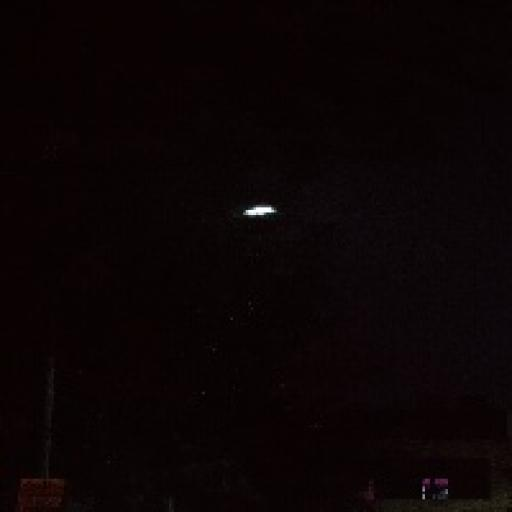Working: (227, 196, 284, 224)
